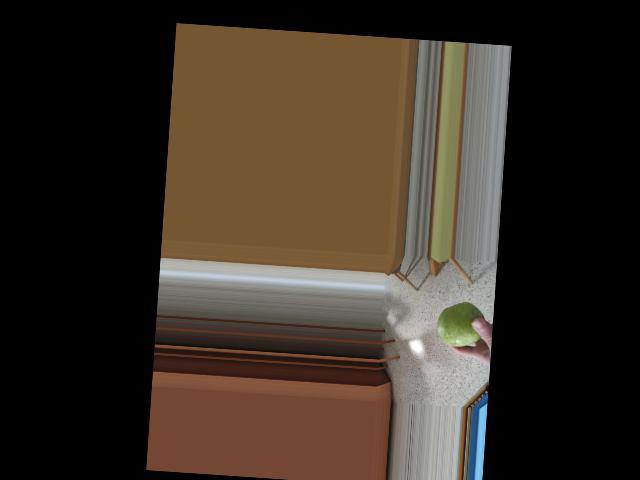apple: (434, 297, 487, 351)
